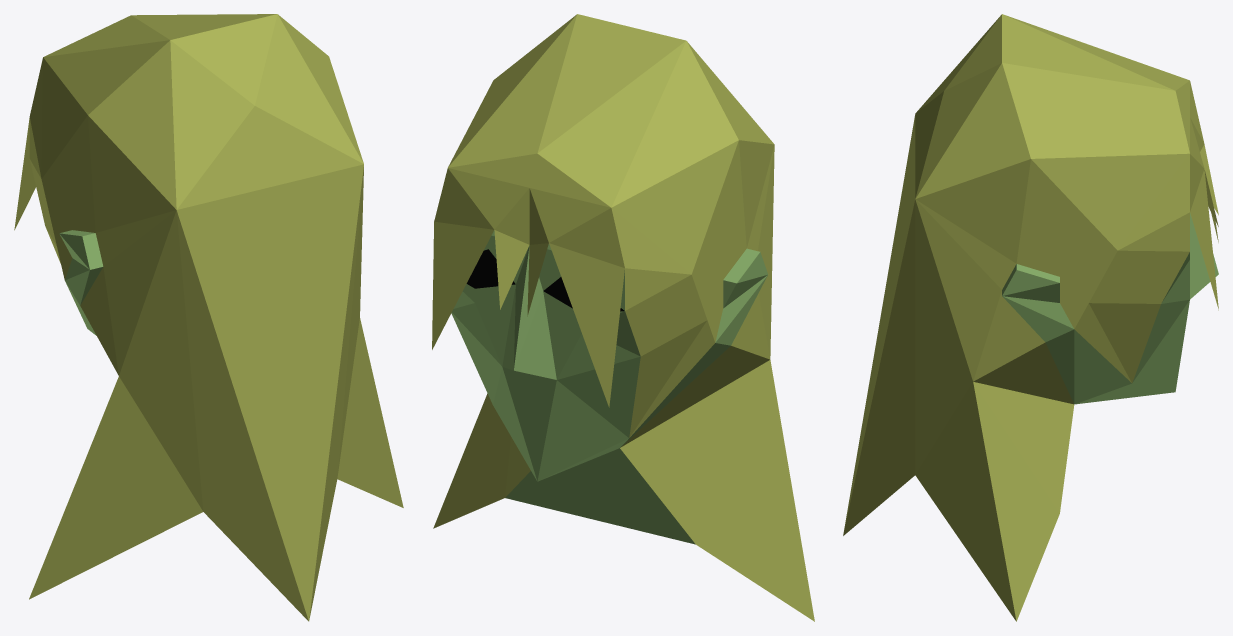
Rendered from npc_world_rashiliyia_0.obj.
3 views of the same model, side by side, from view 1: azimuth 30°, elevation 25°; view 2: azimuth 150°, elevation 25°; view 3: azimuth 270°, elevation 25° (orthographic). The views are drawn at different scales.
Size of the model in its own units: 0.2188 by 0.2969 by 0.2031.
